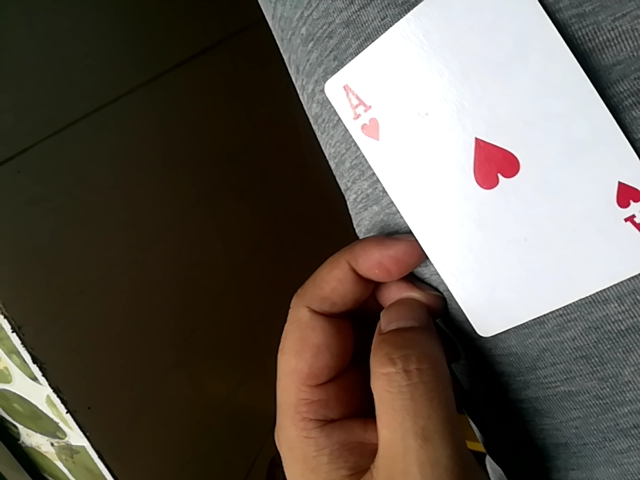hx a: (325, 3, 640, 348)
